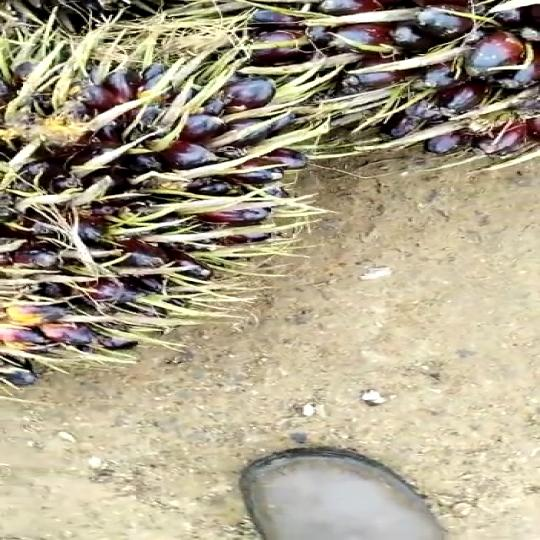mentah: (1, 9, 318, 393), (112, 0, 534, 155)
